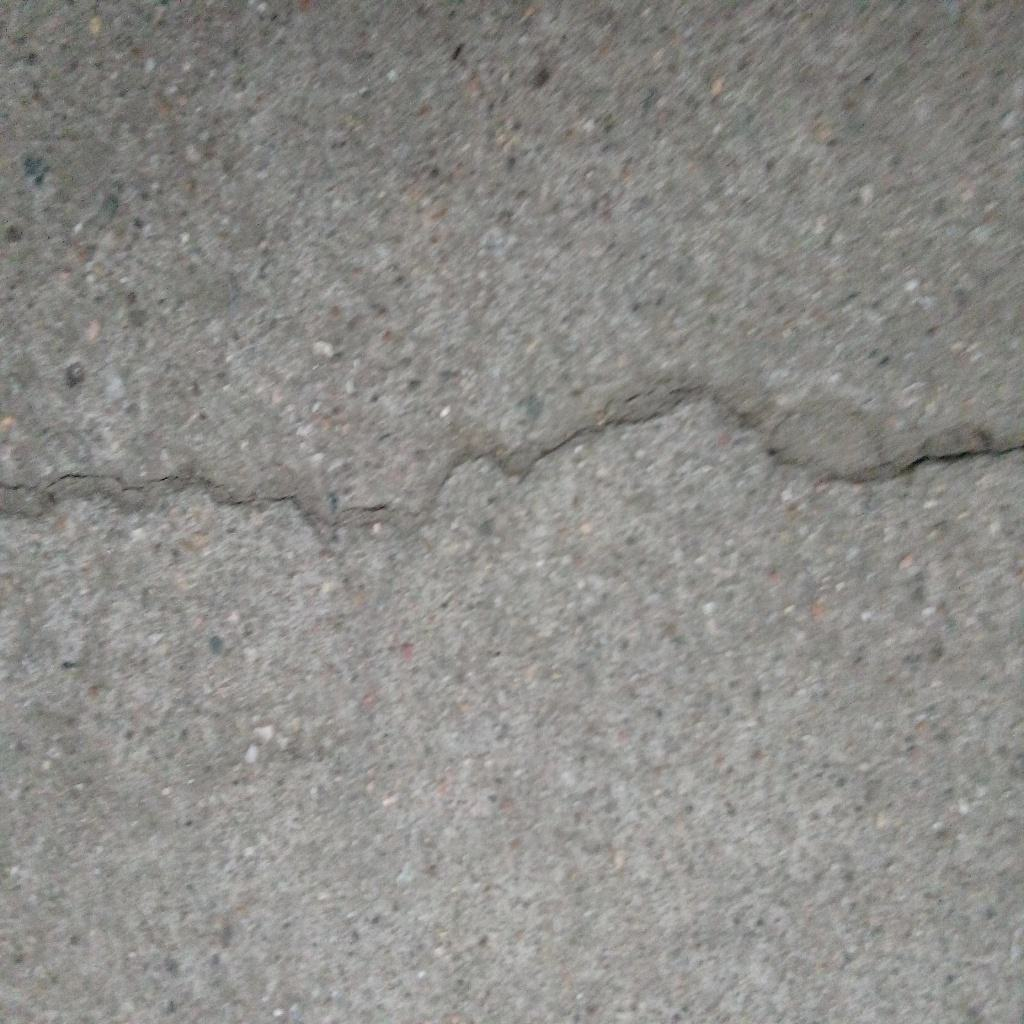Crack: (1, 391, 1024, 537)
